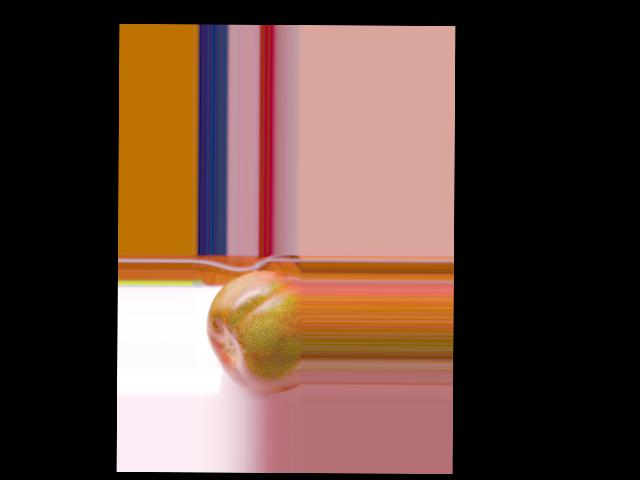tomato: (206, 270, 302, 392)
